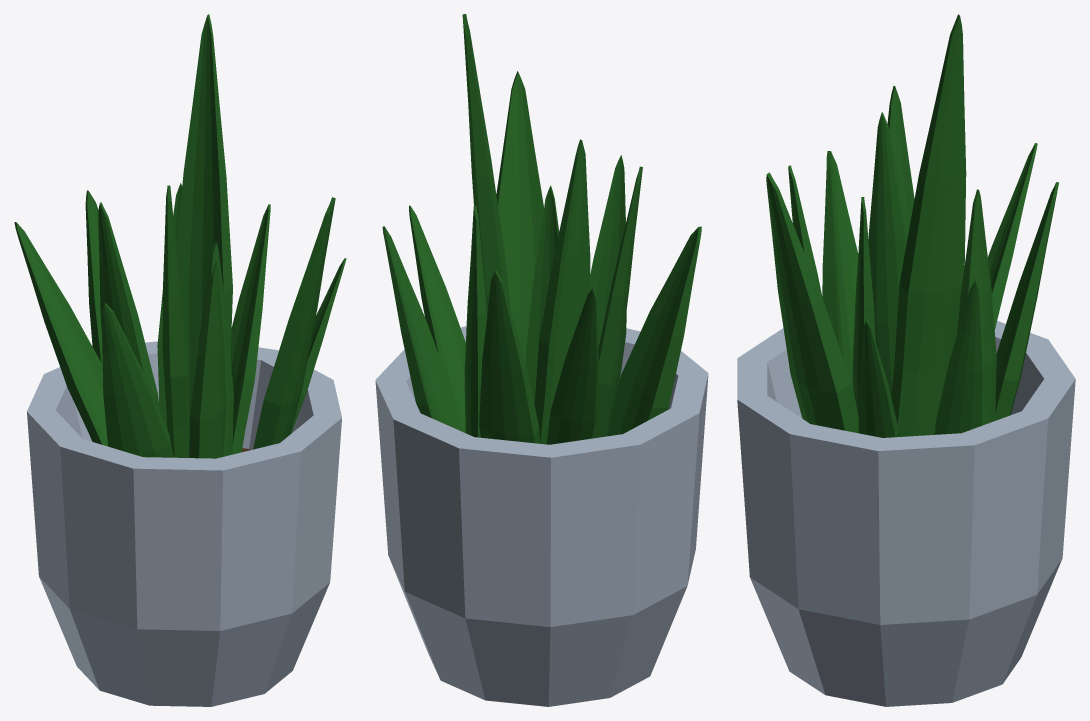
Rendered from PottedPlant1.fbx.
The picture shows the model from 3 angles, left to right: view 1: azimuth 30°, elevation 25°; view 2: azimuth 150°, elevation 25°; view 3: azimuth 270°, elevation 25°; orthographic projection. The views are drawn at different scales.
Visible parts, largest first — view 1: Cylinder; view 2: Cylinder; view 3: Cylinder.
Boxes of the visible parts, left/top/right/bottom form: Cylinder: left=14, top=14, right=346, bottom=706; Cylinder: left=375, top=14, right=708, bottom=706; Cylinder: left=737, top=14, right=1075, bottom=706.
Size of the model in its own units: 281 by 271 by 591.
